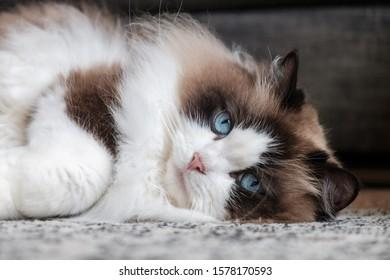ragdoll: (153, 33, 363, 243)
